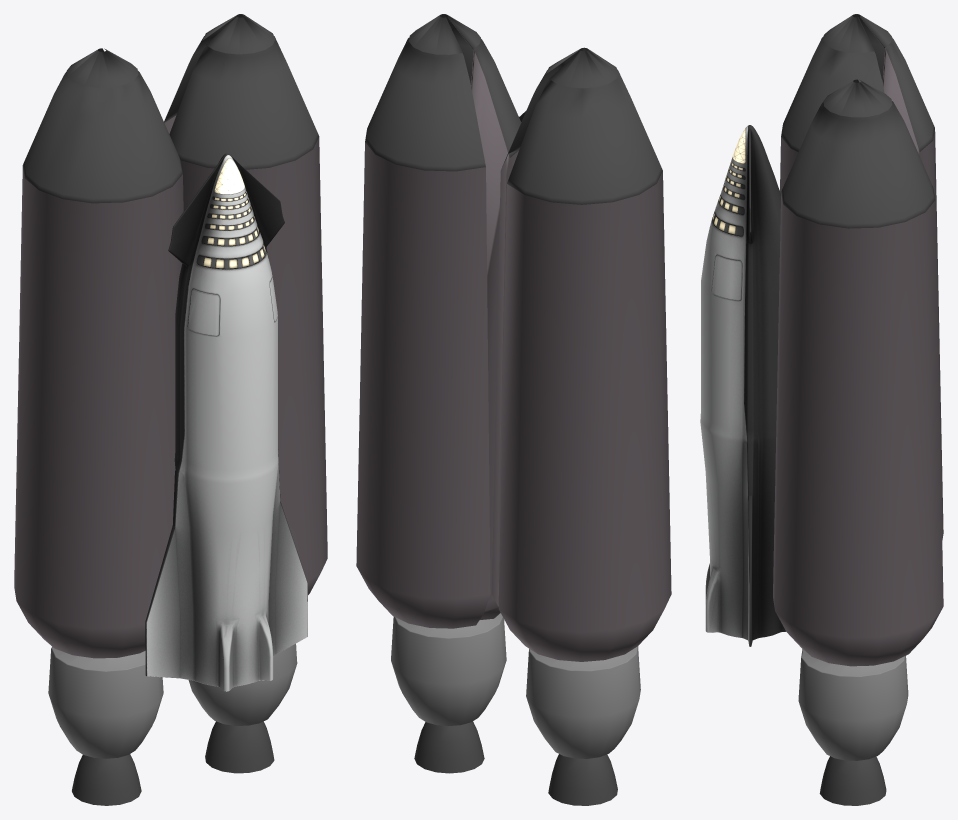
The model's file is allegro.gltf.
The picture shows the model from 3 angles, left to right: view 1: azimuth 30°, elevation 25°; view 2: azimuth 150°, elevation 25°; view 3: azimuth 270°, elevation 25°; orthographic projection. The views are drawn at different scales.
Visible parts, largest first — view 1: Vacuum_Raptors_LP.001_Starship_0.001, Primary_Hull.001, Vacuum_Raptors_LP.001_Starship_0.002, Vacuum_Raptors_LP.001_Starship_0.003, Cargo Doors.001, Cabin_WindowInset.001, Cabin_Windows.001, Bow_Window.001; view 2: Vacuum_Raptors_LP.001_Starship_0.001, Vacuum_Raptors_LP.001_Starship_0.002, Vacuum_Raptors_LP.001_Starship_0.003; view 3: Vacuum_Raptors_LP.001_Starship_0.001, Primary_Hull.001, Vacuum_Raptors_LP.001_Starship_0.002, Vacuum_Raptors_LP.001_Starship_0.003, Cargo Doors.001, Cabin_WindowInset.001, Cabin_Windows.001.
Boxes of the visible parts, x1=… form: Vacuum_Raptors_LP.001_Starship_0.001: x1=14, y1=14, x2=327, y2=658; Primary_Hull.001: x1=145, y1=153, x2=307, y2=691; Vacuum_Raptors_LP.001_Starship_0.002: x1=48, y1=643, x2=297, y2=758; Vacuum_Raptors_LP.001_Starship_0.003: x1=72, y1=721, x2=274, y2=805; Cargo Doors.001: x1=187, y1=275, x2=277, y2=336; Cabin_WindowInset.001: x1=196, y1=190, x2=266, y2=269; Cabin_Windows.001: x1=203, y1=191, x2=265, y2=268; Bow_Window.001: x1=214, y1=158, x2=244, y2=194; Vacuum_Raptors_LP.001_Starship_0.001: x1=356, y1=14, x2=671, y2=661; Vacuum_Raptors_LP.001_Starship_0.002: x1=391, y1=613, x2=640, y2=758; Vacuum_Raptors_LP.001_Starship_0.003: x1=414, y1=721, x2=617, y2=805; Vacuum_Raptors_LP.001_Starship_0.001: x1=773, y1=14, x2=943, y2=666; Primary_Hull.001: x1=700, y1=125, x2=785, y2=646; Vacuum_Raptors_LP.001_Starship_0.002: x1=798, y1=649, x2=908, y2=760; Vacuum_Raptors_LP.001_Starship_0.003: x1=819, y1=756, x2=886, y2=805; Cargo Doors.001: x1=711, y1=255, x2=742, y2=300; Cabin_WindowInset.001: x1=712, y1=161, x2=745, y2=236; Cabin_Windows.001: x1=712, y1=161, x2=742, y2=234.
Bounding box in the file's own units: 2461 × 6022 × 1864.
Materials: 5 (1 with a texture image).
